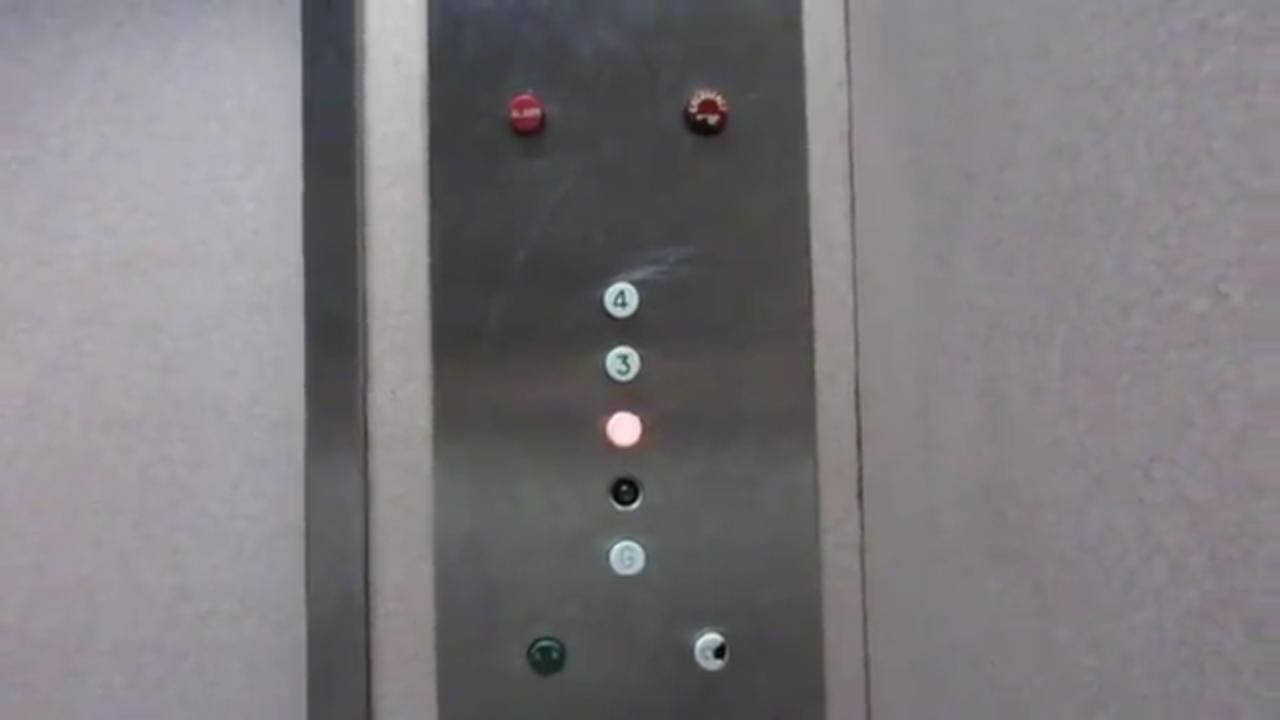3: (598, 342, 648, 386)
4: (595, 279, 645, 323)
G: (603, 536, 653, 580)
blur: (521, 634, 571, 678), (687, 630, 737, 674)
empty: (600, 406, 650, 450)
indicator: (600, 472, 650, 516)
text: (501, 91, 552, 138)
text_blur: (678, 83, 738, 139)
